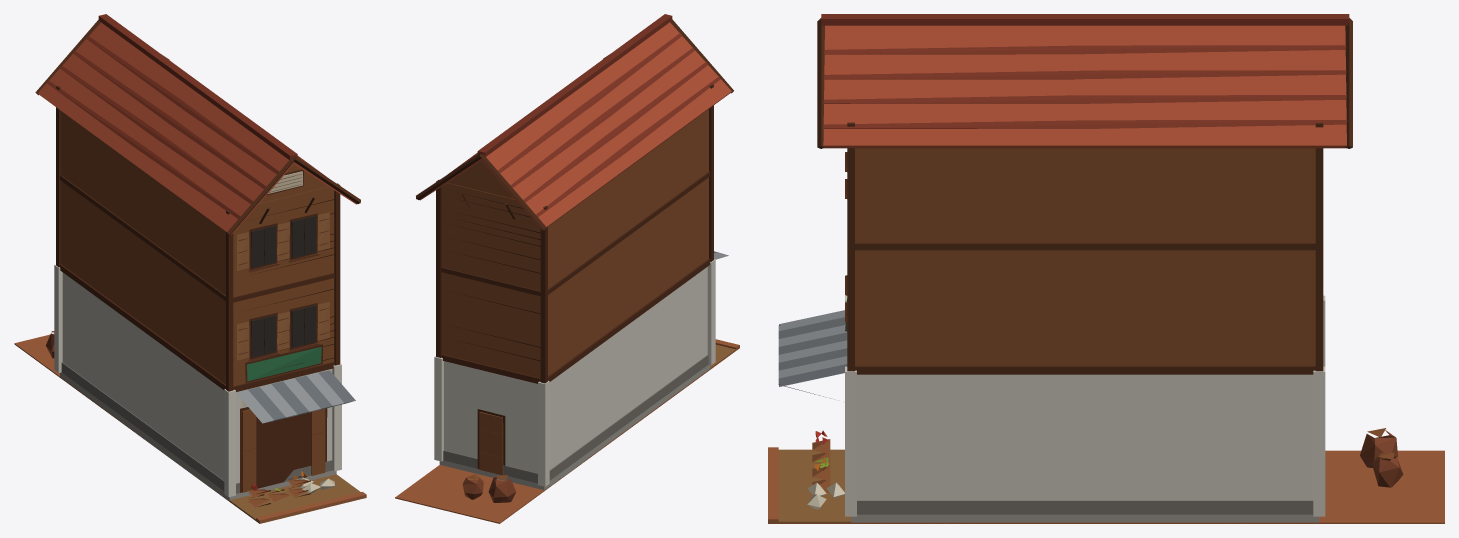
The model's file is bay2_mid2.glb.
3 renders of one model, left to right at view 1: azimuth 30°, elevation 25°; view 2: azimuth 150°, elevation 25°; view 3: azimuth 270°, elevation 25°, orthographic. The views are drawn at different scales.
Parts seen in each view (by area): view 1: body, windows; view 2: body; view 3: body.
Boxes of the visible parts, box(x1,y1,x2,y2) form: body: box(14, 14, 366, 523); windows: box(251, 216, 316, 357); body: box(395, 14, 739, 523); body: box(768, 14, 1444, 523).
Size of the model in its own units: 5.02 by 12.24 by 15.9.
